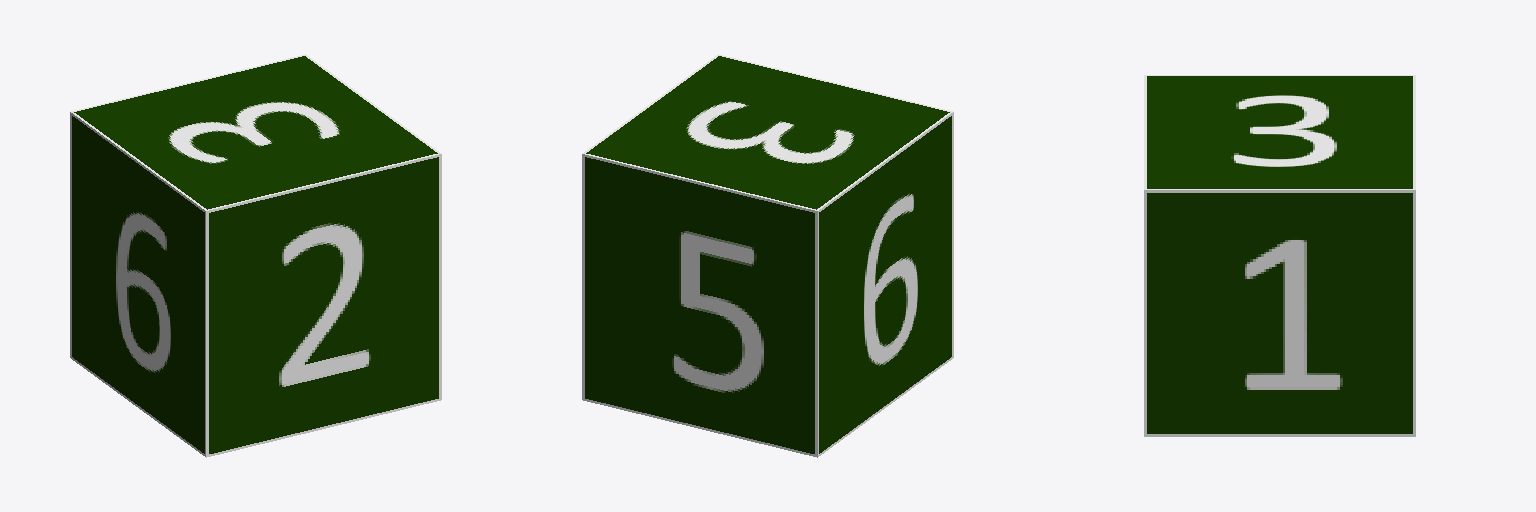
3 renders of one model, left to right at view 1: azimuth 30°, elevation 25°; view 2: azimuth 150°, elevation 25°; view 3: azimuth 270°, elevation 25°, orthographic.
Parts seen in each view (by area): view 1: Куб; view 2: Куб; view 3: Куб.
Boxes of the visible parts, <box> form: Куб: <box>70,54,441,457</box>; Куб: <box>582,54,953,457</box>; Куб: <box>1144,75,1415,436</box>.
Size of the model in its own units: 1 by 1 by 1.
Materials: 1 (1 with a texture image).